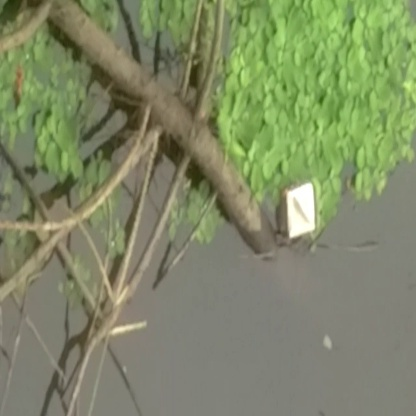branch: (74, 8, 273, 250)
